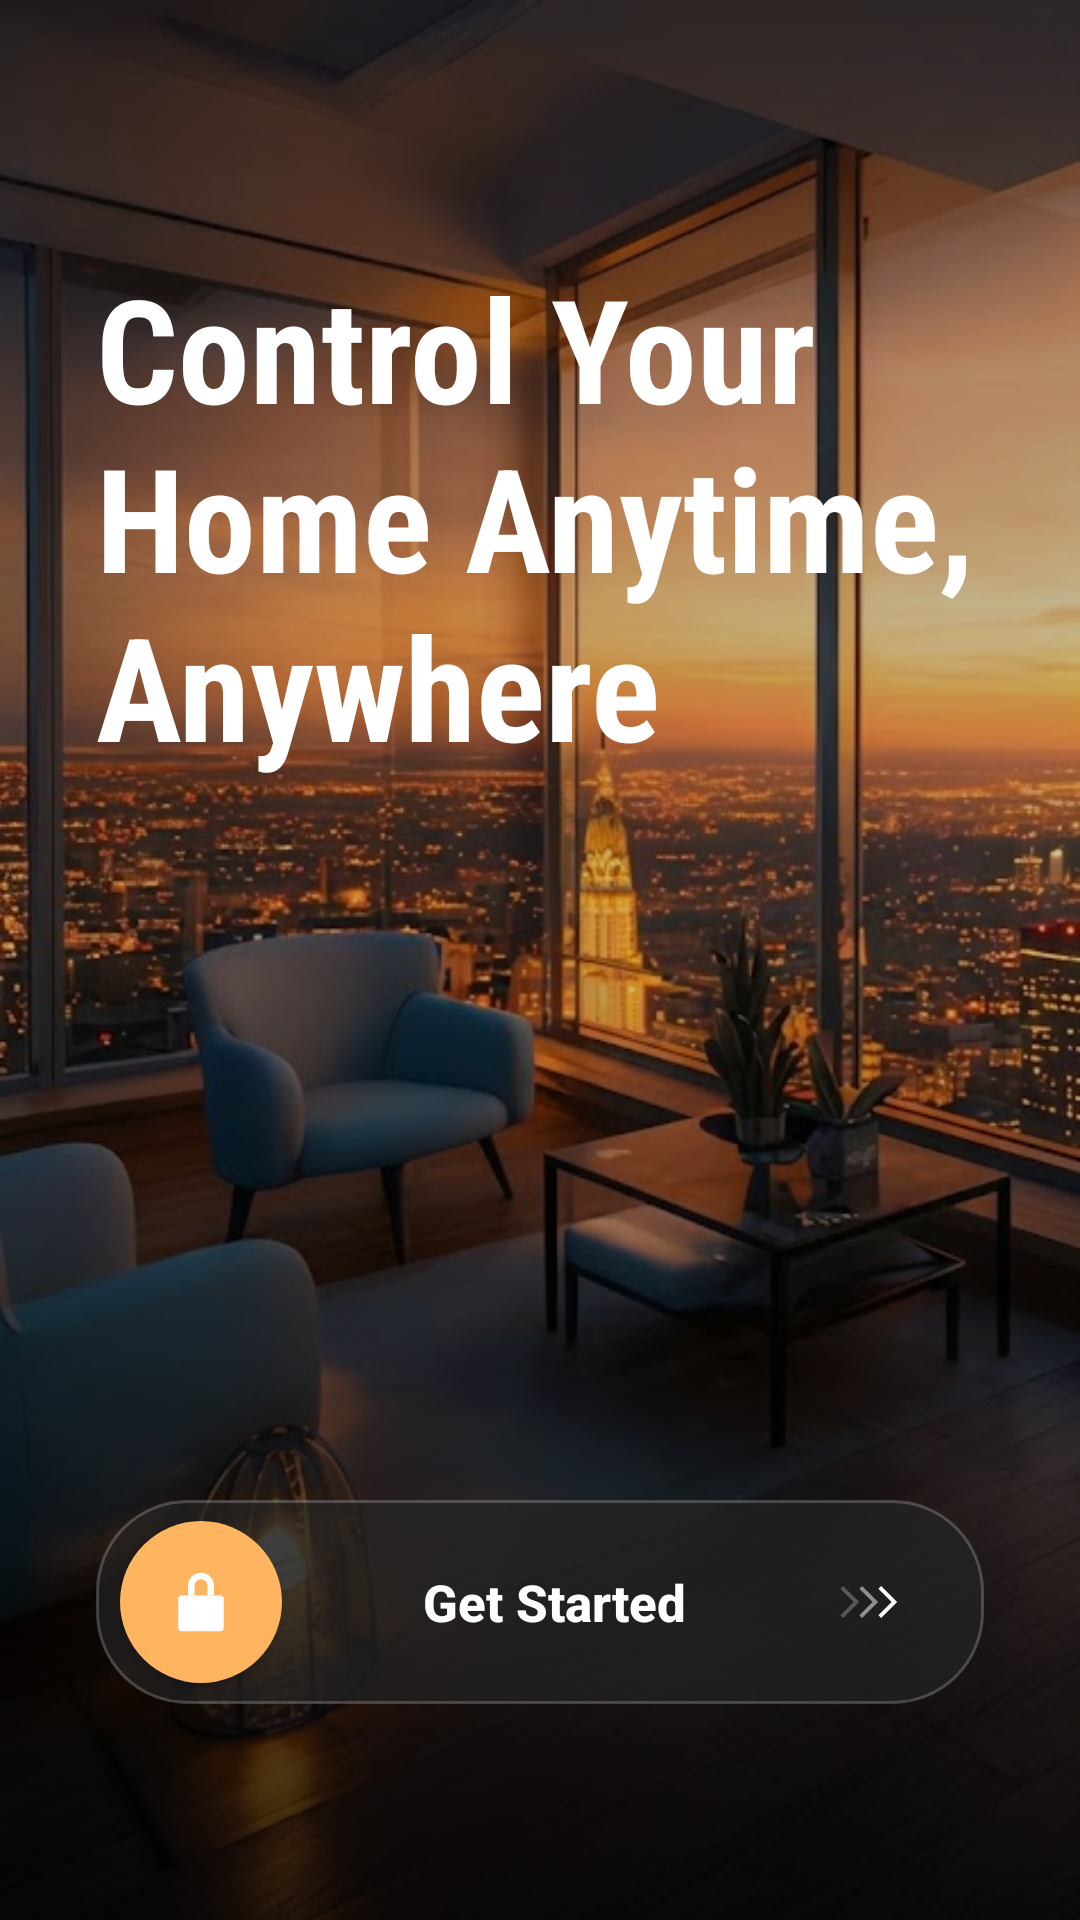

Point at icon controls on the screen. Image size 1080*1920, points as [x,y].
Lock icon: [201,1602]
